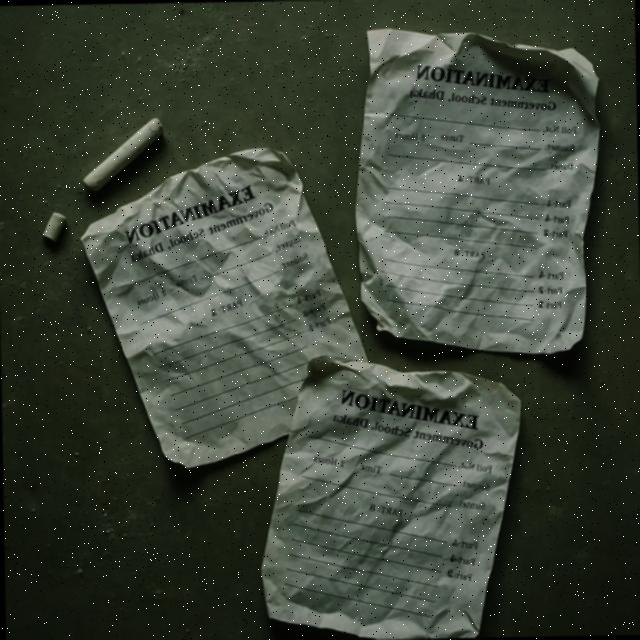paper: (77, 141, 370, 475), (350, 24, 602, 352), (259, 359, 534, 640)
